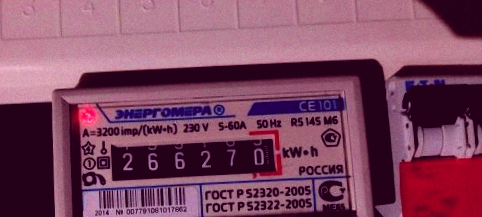0: (252, 145, 265, 166)
2: (120, 150, 135, 171), (199, 147, 212, 169)
6: (146, 151, 160, 171), (172, 149, 186, 169)
7: (224, 146, 238, 168)
screen: (100, 125, 289, 190)
